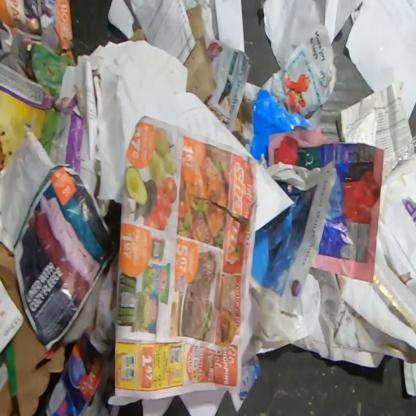cardboard: (0, 63, 84, 256), (0, 238, 66, 415), (248, 89, 312, 168), (0, 349, 19, 416), (231, 94, 253, 136)
rigid_plastic: (382, 133, 415, 186)
